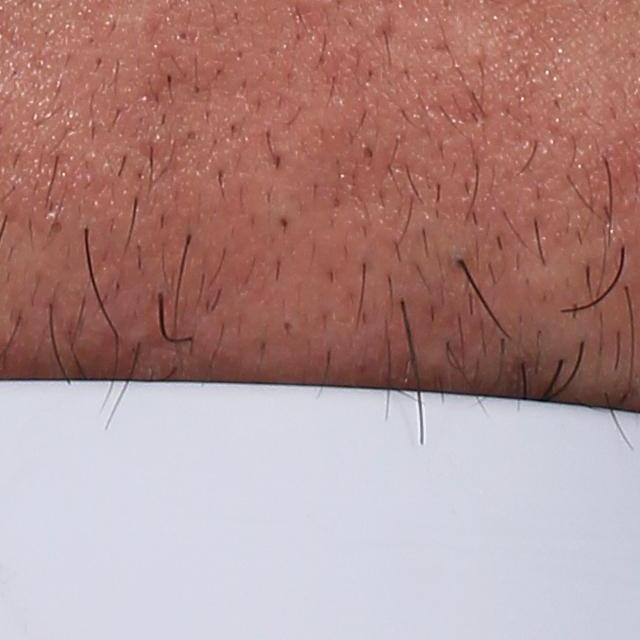atrophic_scar: (375, 16, 398, 49)
